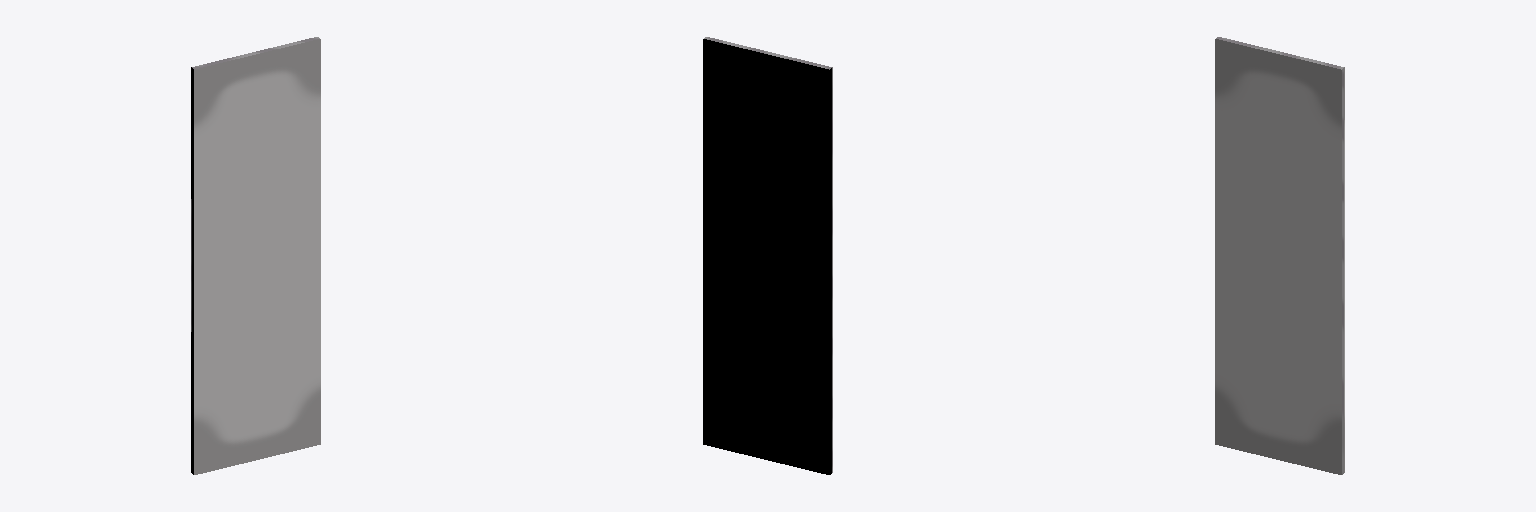
3 views of the same model, side by side, from view 1: azimuth 30°, elevation 25°; view 2: azimuth 150°, elevation 25°; view 3: azimuth 330°, elevation 25° (orthographic).
Parts seen in each view (by area): view 1: /ambf/env/Ledge_Ledge_Cube.001; view 2: /ambf/env/Ledge_Ledge_Cube.001; view 3: /ambf/env/Ledge_Ledge_Cube.001.
Boxes of the visible parts, x1,y1,x2,y2 form: /ambf/env/Ledge_Ledge_Cube.001: [191, 37, 320, 474]; /ambf/env/Ledge_Ledge_Cube.001: [703, 37, 832, 474]; /ambf/env/Ledge_Ledge_Cube.001: [1215, 37, 1344, 474].
Bounding box in the file's own units: 1.13 × 3.47 × 0.0469.
1 materials, 1 textured.